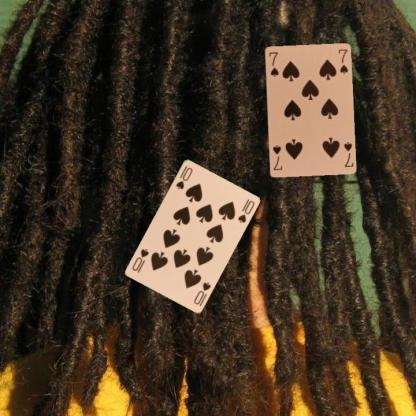10s: (173, 163, 194, 191), (191, 279, 212, 306)
7s: (266, 49, 280, 78), (341, 139, 354, 168)
